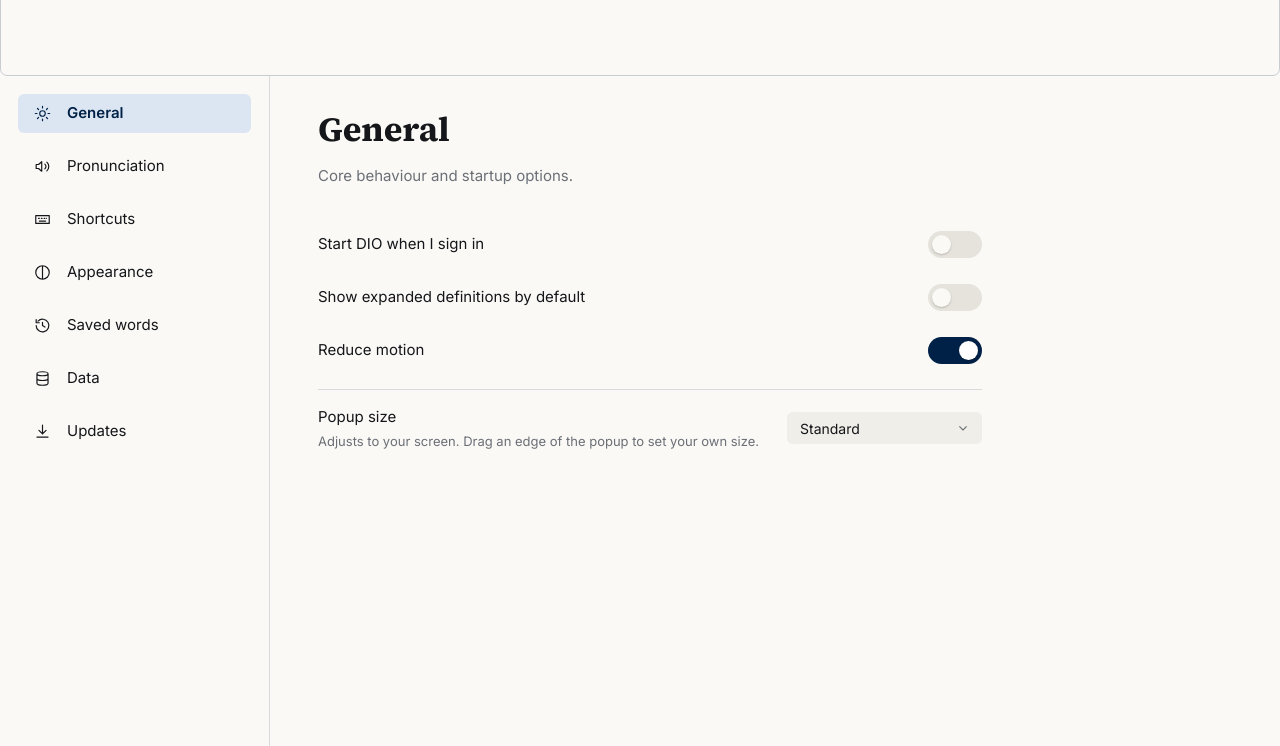
it: settings › keeps a large saved-word collection searchable and initially bounded
The image size is (1280, 746).
(page scrolled)
Click the tab "Saved words" at (134, 326), box [18,306,251,345]
(page scrolled)
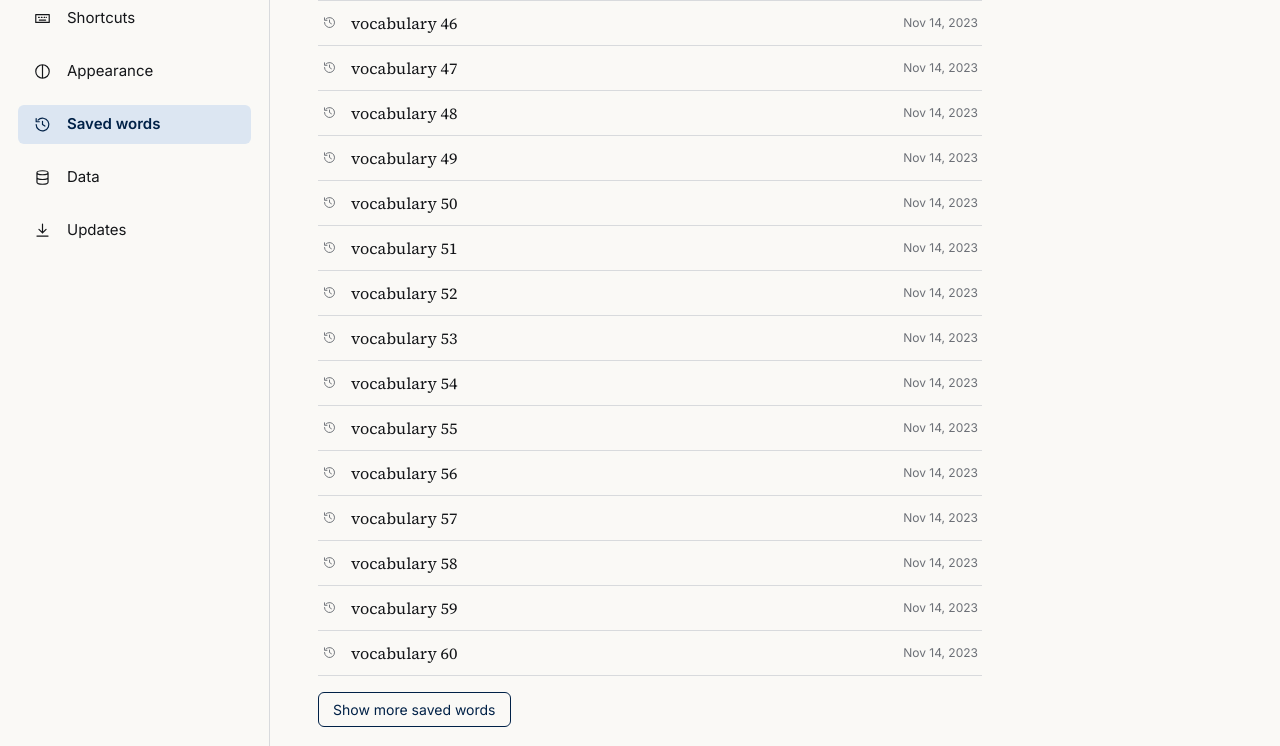
Click the button "Show more saved words" at (414, 709), box [318,692,510,727]
(page scrolled)
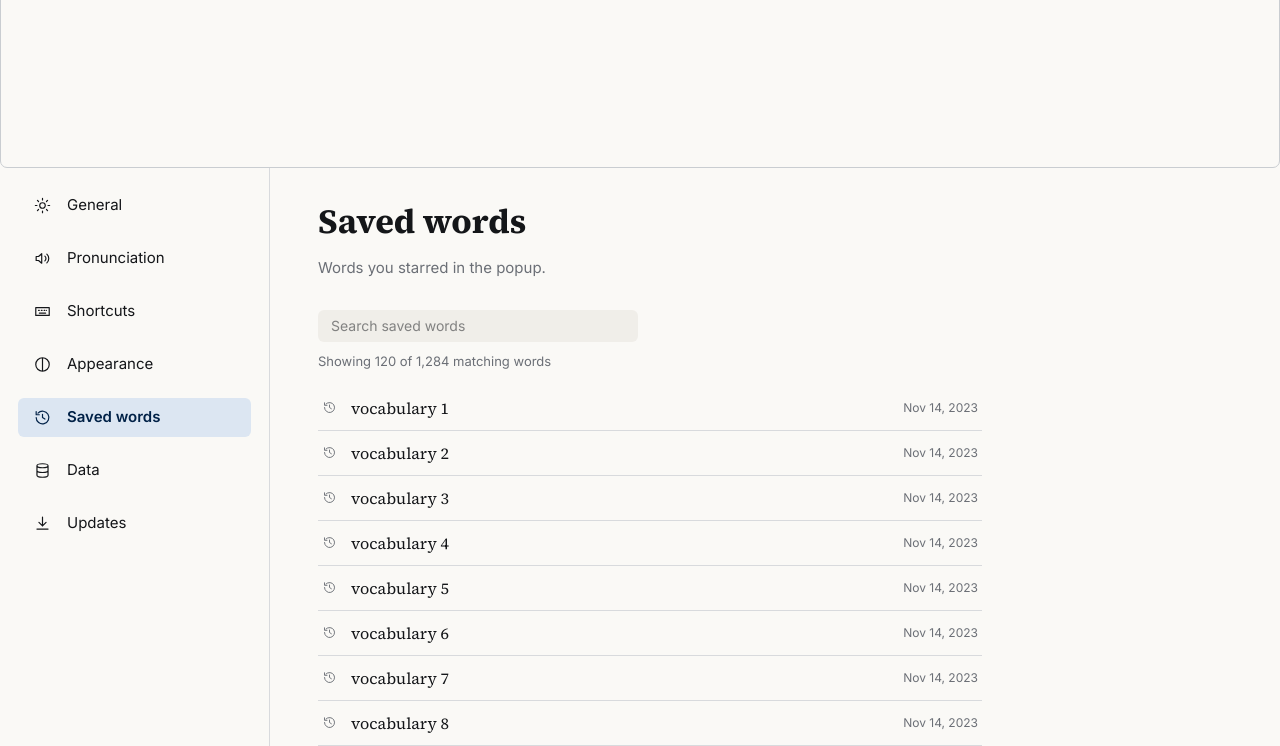
Type "vocabulary 1284" into the search field labelled "Search saved words" at (478, 326), box [318,310,638,342]
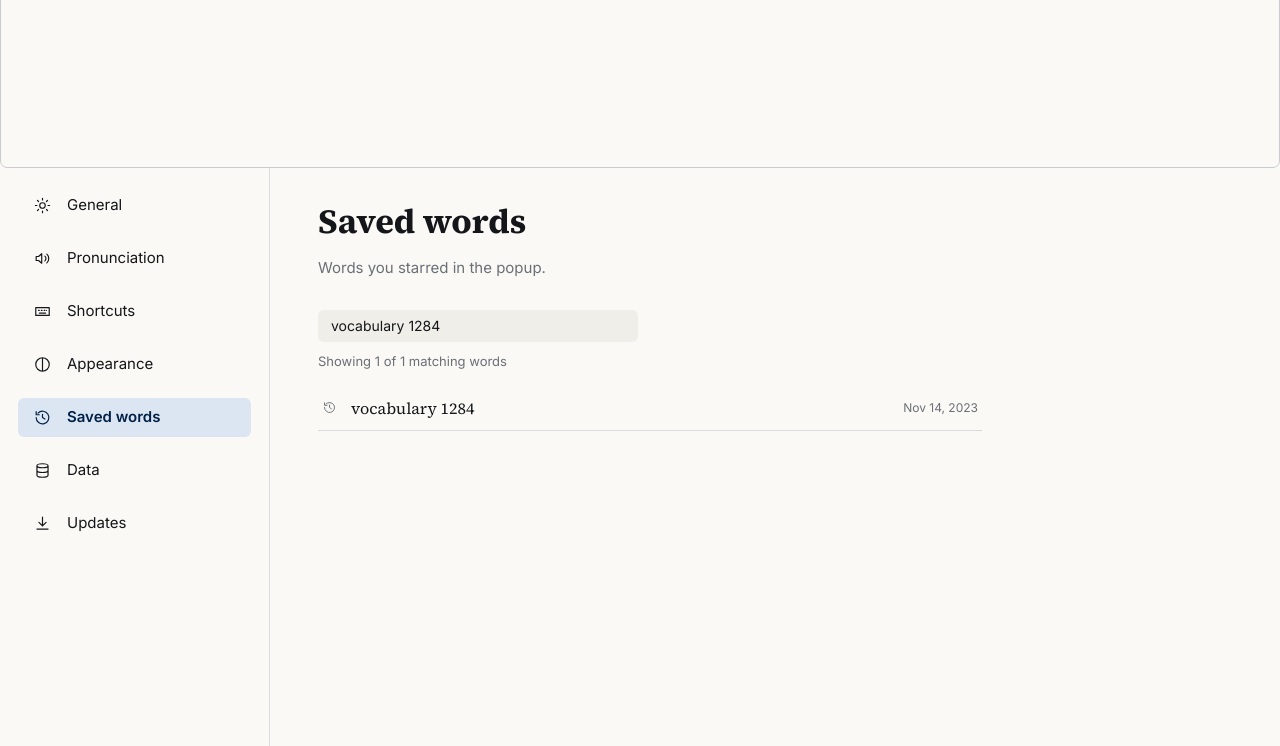
Expected: the number of buttons is 1, [318,386,982,431]
Replace the text in the search field named "Search saved words" with "unlisted word" at (478, 326), box [318,310,638,342]
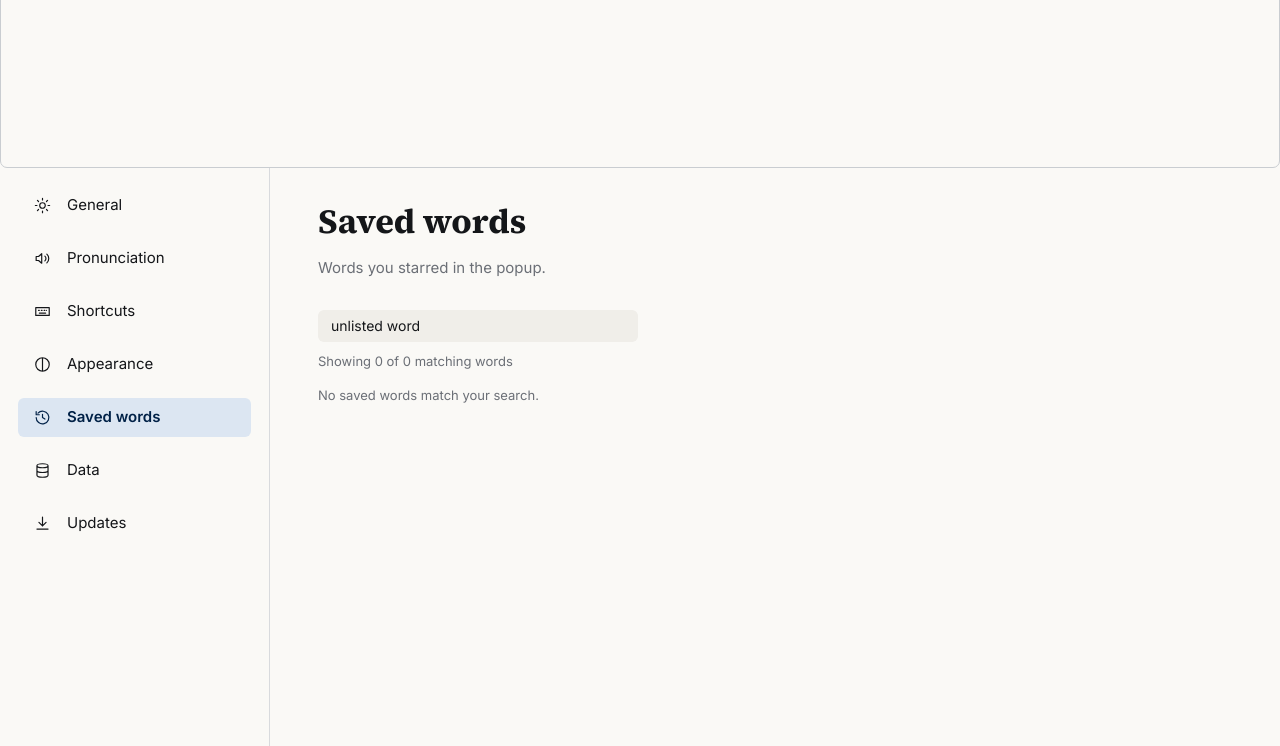
Expected: the text "No saved words match your search." is shown, [318,387,539,403]
